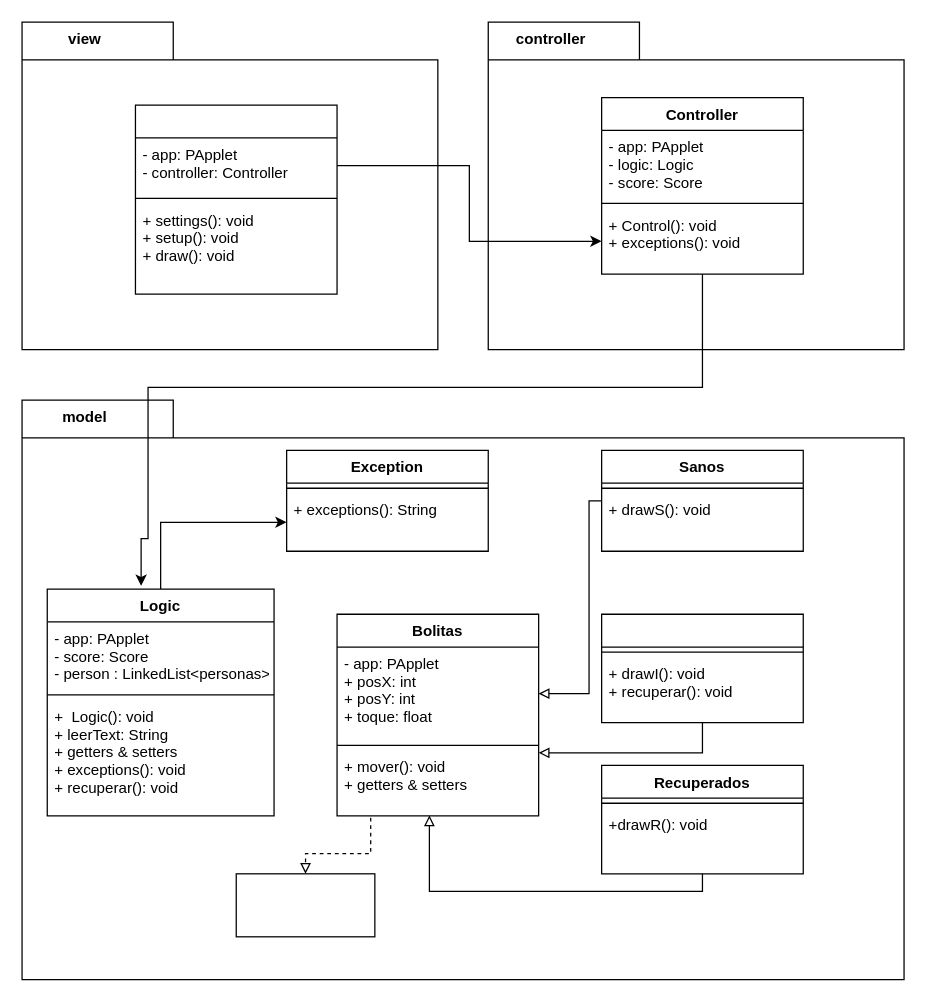
The diagram is 926 pixels wide and 1002 high, and some of its shapes have lost their labels. Each missing label, with the box of its shape:
Infectados: (600, 613, 803, 723)
Main: (134, 104, 337, 294)
«interface» Runnable: (235, 873, 375, 937)
